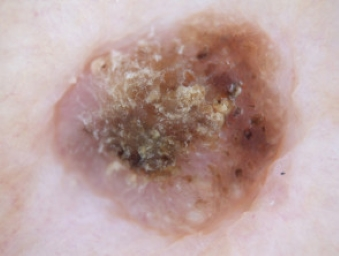seborrheic keratosis: (42, 14, 309, 239)
